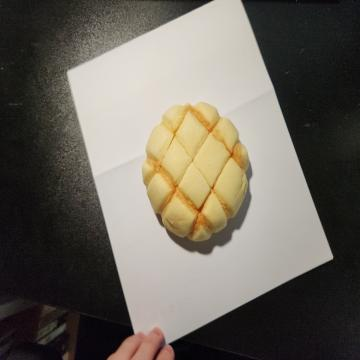melon_bread: (141, 102, 253, 245)
